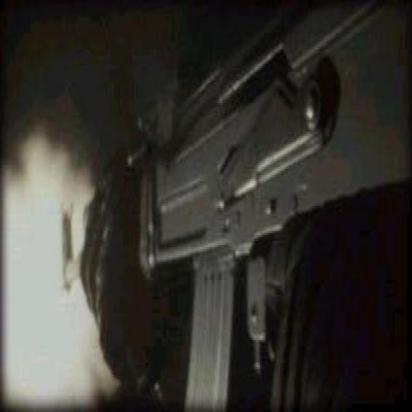Gun: (57, 4, 412, 409)
